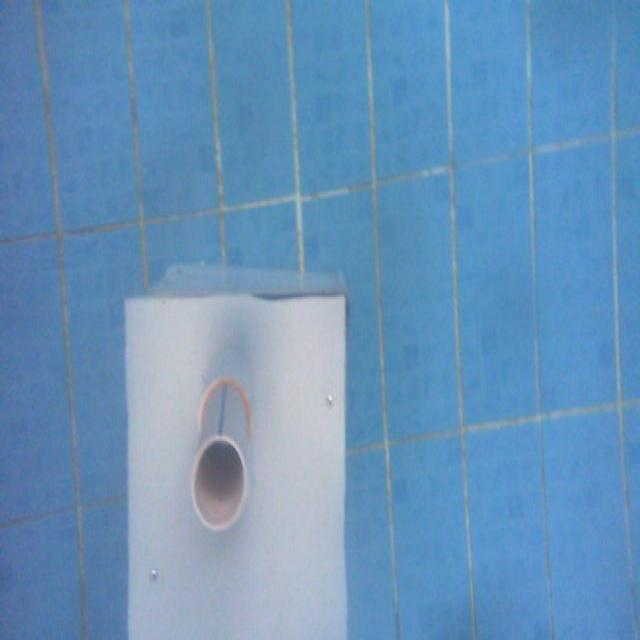Cube: (121, 276, 349, 638)
